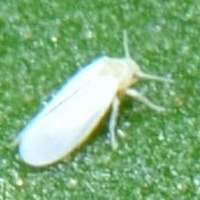insect: (18, 38, 168, 166)
